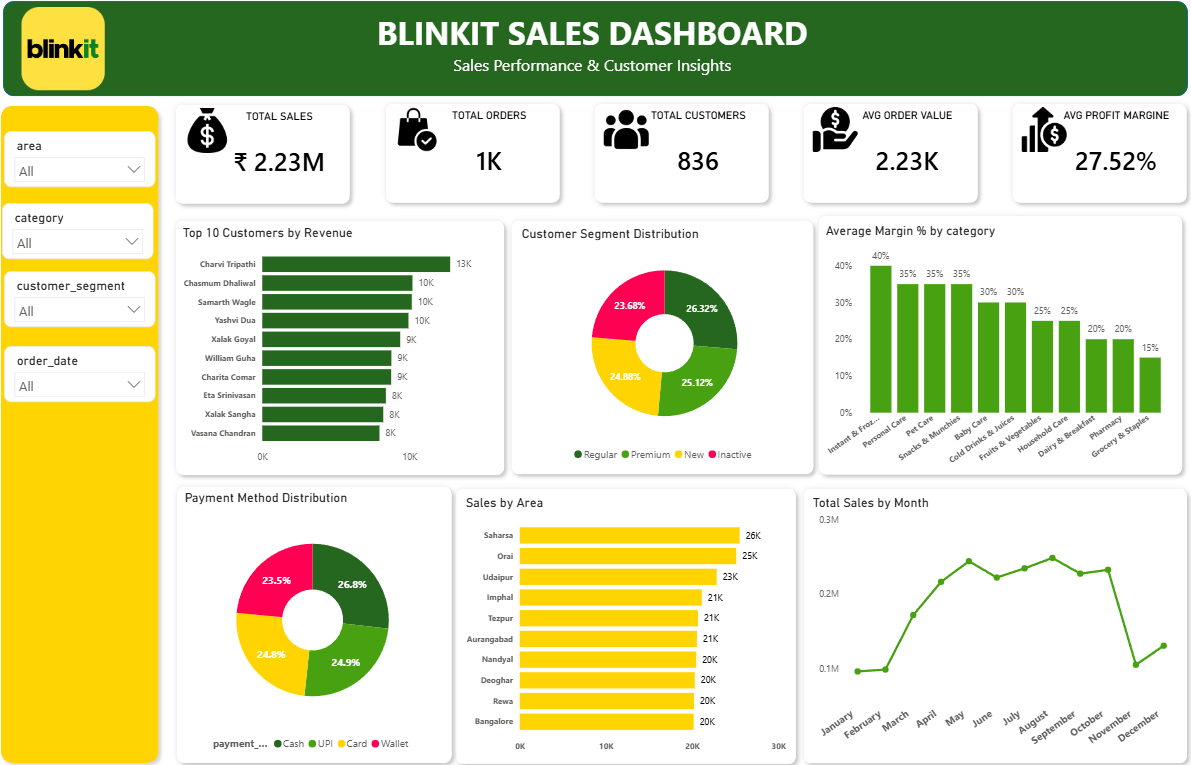

Layout of this report page (visuals, bound fields, positions):
{"tool":"powerbi","page":{"name":"Page 1","canvas":[1600,1030],"ordinal":0},"visuals":[{"type":"shape","box":[11.4,5.7,1580,127.1],"z":0},{"type":"shape","box":[0,135.7,228.6,894.3],"z":1000},{"type":"group","id":"g1","title":"Group 6","box":[607,646,471.6,384.8],"z":1000,"group":"g7"},{"type":"textbox","box":[40,12.9,1515.7,110],"z":2000},{"type":"shape","box":[607,646,471.6,384.8],"z":2500,"group":"g1"},{"type":"group","id":"g2","title":"Group 1","box":[791.6,132.7,250,150],"z":3000,"group":"g15"},{"type":"shape","box":[791.6,132.7,250,150],"z":3000,"group":"g2"},{"type":"group","id":"g3","title":"Group 1","box":[512.7,133.7,250,150],"z":3000,"group":"g14"},{"type":"shape","box":[512.7,133.7,250,150],"z":3000,"group":"g3"},{"type":"group","id":"g4","title":"Group 1","box":[1070.5,133.7,250,150],"z":3000,"group":"g16"},{"type":"shape","box":[1070.5,133.7,250,150],"z":3000,"group":"g4"},{"type":"group","id":"g5","title":"Group 1","box":[1349.4,133.7,250,150],"z":3000,"group":"g17"},{"type":"shape","box":[1349.4,133.7,250,150],"z":3000,"group":"g5"},{"type":"group","id":"g6","title":"Group 1","box":[233.8,134.6,250,150],"z":3000,"group":"g13"},{"type":"shape","box":[233.8,134.6,250,150],"z":3000,"group":"g6"},{"type":"slicer","fields":{"Values":["blinkit data.area"]},"box":[13,179,202,75],"z":3000,"group":"g18"},{"type":"shape","box":[681,289,420.1,356],"z":3000,"group":"g9"},{"type":"cardVisual","title":"TOTAL CUSTOMERS","fields":{"Data":["Monthly Sales.Total Customers"]},"box":[846.2,148.5,184.8,116.2],"z":4000,"group":"g2"},{"type":"cardVisual","title":"TOTAL ORDERS","fields":{"Data":["Monthly Sales.Total Orders"]},"box":[567.3,149.5,184.8,116.2],"z":4000,"group":"g3"},{"type":"cardVisual","title":"AVG ORDER VALUE","fields":{"Data":["Monthly Sales.Average Order Value"]},"box":[1125.1,149.5,184.8,116.2],"z":4000,"group":"g4"},{"type":"cardVisual","title":"AVG PROFIT MARGINE","fields":{"Data":["Monthly Sales.Average Margin %"]},"box":[1404,149.5,184.8,116.2],"z":4000,"group":"g5"},{"type":"cardVisual","title":"TOTAL SALES","fields":{"Data":["Monthly Sales.Total Sales"]},"box":[288.4,150.4,184.8,116.2],"z":4000,"group":"g6"},{"type":"slicer","fields":{"Values":["blinkit data.category"]},"box":[11,275,202,75],"z":4000,"group":"g18"},{"type":"slicer","fields":{"Values":["blinkit data.customer_segment"]},"box":[13,365,202,75],"z":5000,"group":"g18"},{"type":"slicer","fields":{"Values":["blinkit data.order_date"]},"box":[13,465,202,75],"z":6000,"group":"g18"},{"type":"group","id":"g7","title":"Group 2","box":[607,646,471,384],"z":7000},{"type":"group","id":"g8","title":"Group 3","box":[234,644,384,386],"z":8000},{"type":"shape","box":[233,289,456,357],"z":9000,"group":"g12"},{"type":"group","id":"g9","title":"Group 4","box":[681,289,420,357],"z":9000},{"type":"group","id":"g10","title":"Group 5","box":[1090,283,504,363],"z":10000},{"type":"donutChart","title":"Customer Segment Distribution","fields":{"Category":["blinkit data.customer_segment"],"Y":["Monthly Sales.Total Customers"]},"box":[698.1,304.8,390.6,323],"z":10000,"group":"g9"},{"type":"group","id":"g11","title":"Group 7","box":[1070,646,529,384],"z":11000},{"type":"group","id":"g12","title":"Group 8","box":[233,289,456,357],"z":12000},{"type":"clusteredBarChart","title":"Sales by Area","fields":{"Category":["blinkit data.area"],"Y":["Monthly Sales.Total Sales"]},"box":[624.5,663.8,436.8,352.6],"z":12000,"group":"g1"},{"type":"group","id":"g13","title":"Group 10","box":[233.8,134.6,250,150],"z":13000},{"type":"image","box":[34.7,13.3,114.7,110.7],"z":14000},{"type":"group","id":"g14","title":"Group 10","box":[512.7,133.7,250,150],"z":14000},{"type":"image","box":[808.1,146.7,70.5,60],"z":14000,"group":"g15"},{"type":"image","box":[529.2,147.7,70.5,60],"z":14000,"group":"g14"},{"type":"image","box":[1087,147.7,70.5,60],"z":14000,"group":"g16"},{"type":"image","box":[1365.9,147.7,70.5,60],"z":14000,"group":"g17"},{"type":"image","box":[250.3,148.6,70.5,60],"z":14000,"group":"g13"},{"type":"group","id":"g15","title":"Group 10","box":[791.6,132.7,250,150],"z":15000},{"type":"shape","box":[234,644,384.5,386.2],"z":15000,"group":"g8"},{"type":"group","id":"g16","title":"Group 10","box":[1070.5,133.7,250,150],"z":16000},{"type":"shape","box":[1090,283,502.7,363.1],"z":16000,"group":"g10"},{"type":"donutChart","title":"Payment Method Distribution","fields":{"Category":["blinkit data.payment_method"],"Y":["Monthly Sales.Total Orders"]},"box":[248.7,657.9,350.8,357.1],"z":16000,"group":"g8"},{"type":"group","id":"g17","title":"Group 10","box":[1349.4,133.7,250,150],"z":17000},{"type":"clusteredColumnChart","fields":{"Category":["blinkit data.category"],"Y":["Monthly Sales.Average Margin %"]},"box":[1103.6,301.4,471.5,332.9],"z":17000,"group":"g10"},{"type":"shape","box":[1070,646,529,384],"z":17000,"group":"g19"},{"type":"group","id":"g18","title":"Group 11","box":[11,179,204,361],"z":17001},{"type":"lineChart","fields":{"Category":["blinkit data.order_date.Variation.Date Hierarchy.Month"],"Y":["Monthly Sales.Total Sales"]},"box":[1086.4,662.7,492.8,353.7],"z":18000,"group":"g19"},{"type":"clusteredBarChart","title":"Top 10 Customers by Revenue","fields":{"Category":["blinkit data.customer_name"],"Y":["Monthly Sales.Total Sales"]},"box":[247,303.3,420.4,327.3],"z":18002,"group":"g12"},{"type":"group","id":"g19","title":"Group 9","box":[1070,646,529,384],"z":18004,"group":"g11"}]}

Visuals, with their boxes in screenshot pixels (x1, y1, x2, y2), scaled from the page's 1600x1030 canvas onto the 1191x765 screenshot:
shape: region(8, 4, 1185, 99)
shape: region(0, 101, 170, 764)
"Group 6" group: region(452, 480, 803, 764)
textbox: region(30, 10, 1158, 91)
shape: region(452, 480, 803, 764)
"Group 1" group: region(589, 99, 775, 210)
shape: region(589, 99, 775, 210)
"Group 1" group: region(382, 99, 568, 211)
shape: region(382, 99, 568, 211)
"Group 1" group: region(797, 99, 983, 211)
shape: region(797, 99, 983, 211)
"Group 1" group: region(1004, 99, 1190, 211)
shape: region(1004, 99, 1190, 211)
"Group 1" group: region(174, 100, 360, 211)
shape: region(174, 100, 360, 211)
slicer - blinkit data.area: region(10, 133, 160, 189)
shape: region(507, 215, 820, 479)
"TOTAL CUSTOMERS" cardVisual: region(630, 110, 767, 197)
"TOTAL ORDERS" cardVisual: region(422, 111, 560, 197)
"AVG ORDER VALUE" cardVisual: region(837, 111, 975, 197)
"AVG PROFIT MARGINE" cardVisual: region(1045, 111, 1183, 197)
"TOTAL SALES" cardVisual: region(215, 112, 352, 198)
slicer - blinkit data.category: region(8, 204, 159, 260)
slicer - blinkit data.customer_segment: region(10, 271, 160, 327)
slicer - blinkit data.order_date: region(10, 345, 160, 401)
"Group 2" group: region(452, 480, 802, 764)
"Group 3" group: region(174, 478, 460, 764)
shape: region(173, 215, 513, 480)
"Group 4" group: region(507, 215, 820, 480)
"Group 5" group: region(811, 210, 1187, 480)
"Customer Segment Distribution" donutChart: region(520, 226, 810, 466)
"Group 7" group: region(796, 480, 1190, 764)
"Group 8" group: region(173, 215, 513, 480)
"Sales by Area" clusteredBarChart: region(465, 493, 790, 755)
"Group 10" group: region(174, 100, 360, 211)
image: region(26, 10, 111, 92)
"Group 10" group: region(382, 99, 568, 211)
image: region(602, 109, 654, 154)
image: region(394, 110, 446, 154)
image: region(809, 110, 862, 154)
image: region(1017, 110, 1069, 154)
image: region(186, 110, 239, 155)
"Group 10" group: region(589, 99, 775, 210)
shape: region(174, 478, 460, 764)
"Group 10" group: region(797, 99, 983, 211)
shape: region(811, 210, 1186, 480)
"Payment Method Distribution" donutChart: region(185, 489, 446, 754)
"Group 10" group: region(1004, 99, 1190, 211)
clusteredColumnChart - blinkit data.category x Monthly Sales.Average Margin %: region(821, 224, 1172, 471)
shape: region(796, 480, 1190, 764)
"Group 11" group: region(8, 133, 160, 401)
lineChart - blinkit data.order_date.Variation.Date Hierarchy.Month x Monthly Sales.Total Sales: region(809, 492, 1176, 755)
"Top 10 Customers by Revenue" clusteredBarChart: region(184, 225, 497, 468)
"Group 9" group: region(796, 480, 1190, 764)
